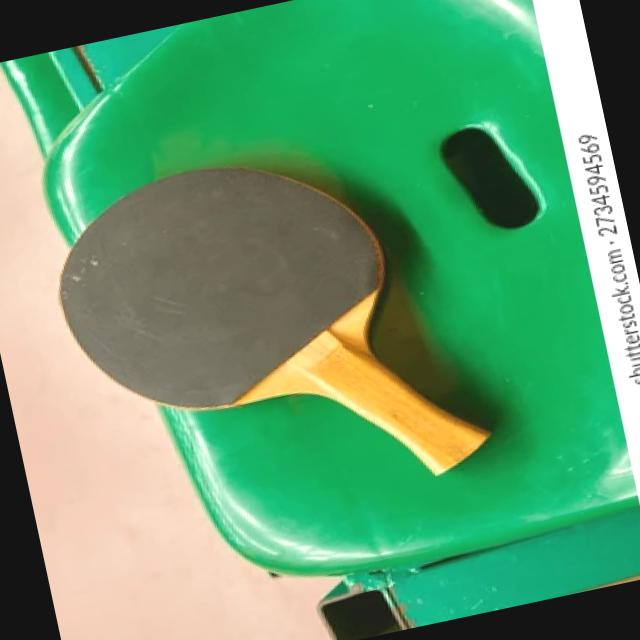TT Racket: (0, 48, 492, 532)
